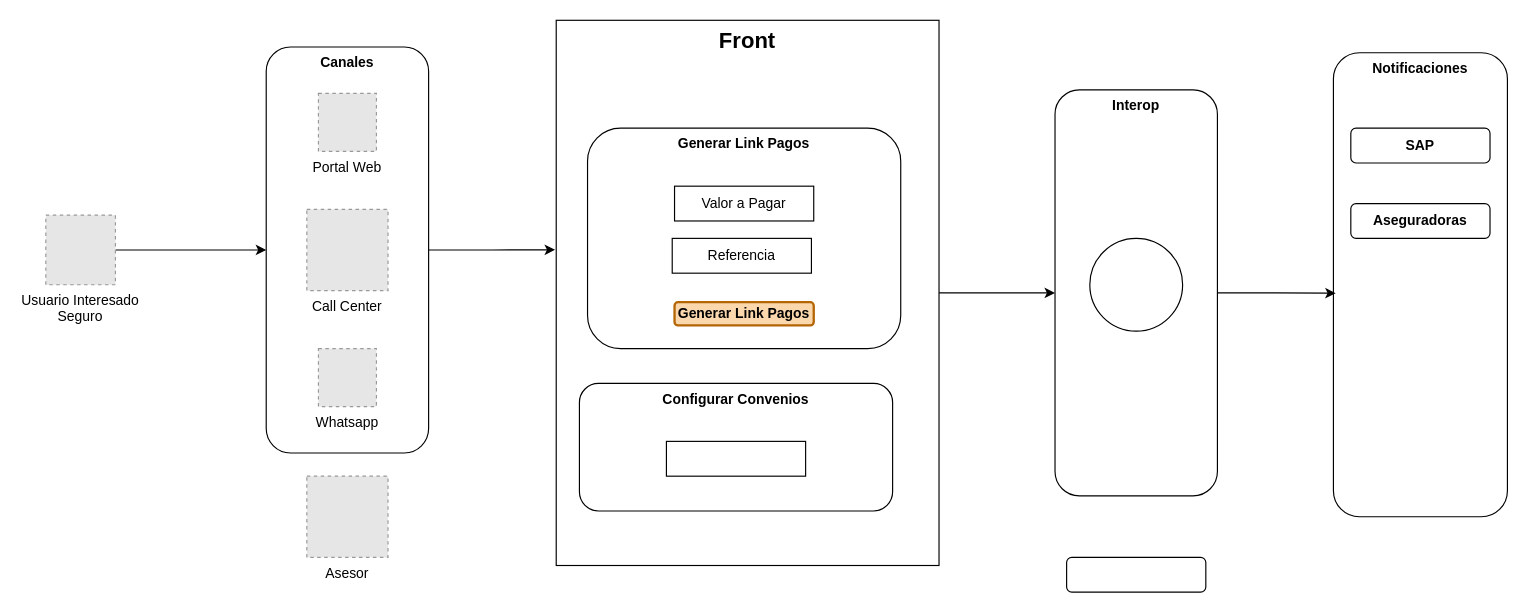
This 1528x612 diagram has some shape labels left out. Grey dashed boxes stand in for pictures. The centre of each missing label's shape, as x and y in pixels:
"Api pagos" belongs at point 1136,284.
"Comercio AXA" belongs at point 735,458.
"Facturación??" belongs at point 1135,574.
